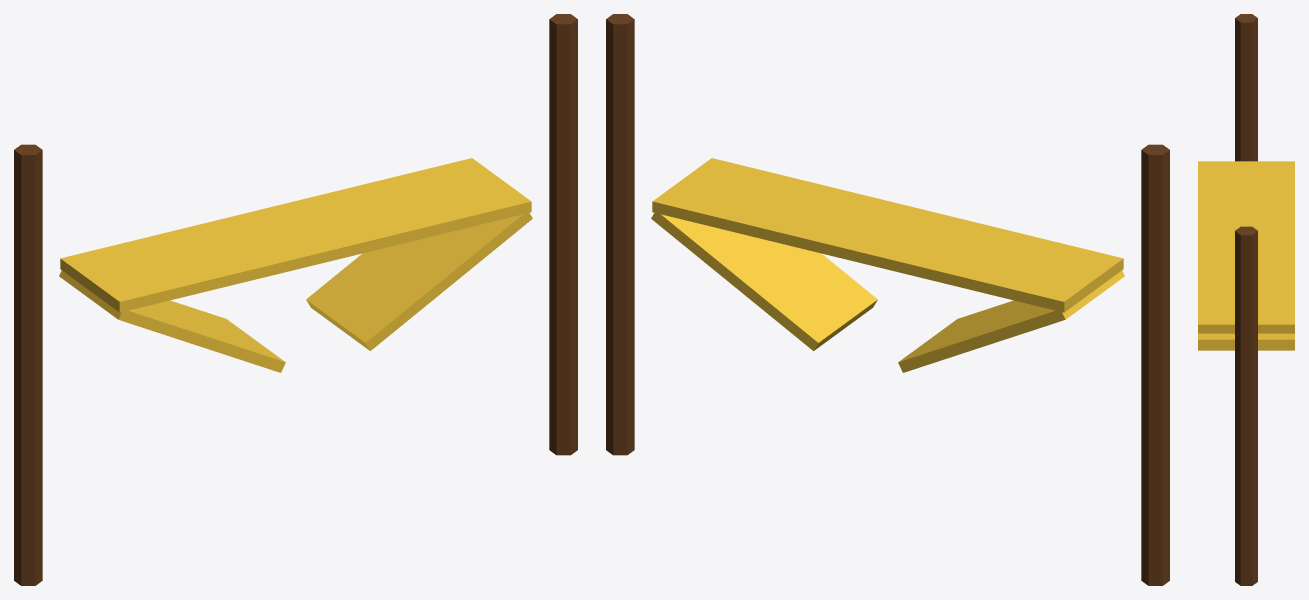
File: hammock.glb
The picture shows the model from 3 angles, left to right: view 1: azimuth 30°, elevation 25°; view 2: azimuth 150°, elevation 25°; view 3: azimuth 270°, elevation 25°; orthographic projection. The views are drawn at different scales.
Visible parts, largest first — view 1: hammock; view 2: hammock; view 3: hammock.
Part boxes in pixels (x1,y1,x2,y2): hammock: (14, 14, 577, 585); hammock: (606, 14, 1169, 585); hammock: (1198, 14, 1294, 585).
Bounding box in the file's own units: 2.7 × 2 × 0.5.
